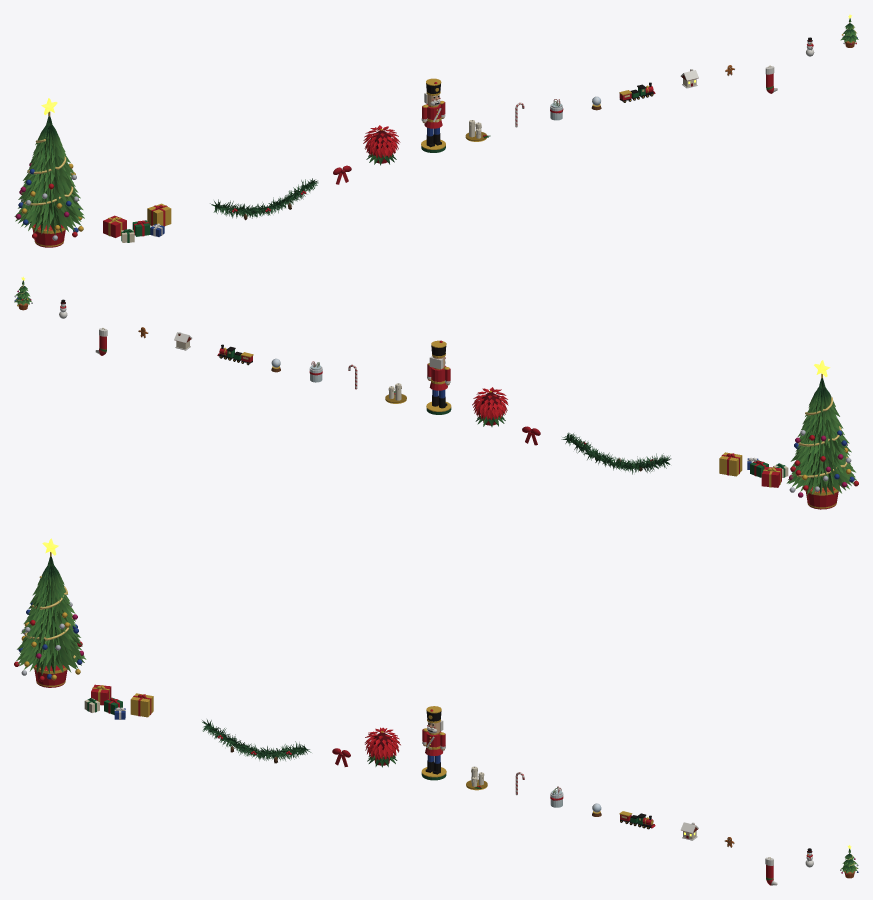
File: Christmas.glb
The picture shows the model from 3 angles, top to bottom: view 1: azimuth 30°, elevation 25°; view 2: azimuth 150°, elevation 25°; view 3: azimuth 330°, elevation 25°; orthographic projection.
Visible parts, largest first — view 1: XmasTree, Presents, Nutcracker, GarlandSwag, Poinsettia; view 2: XmasTree, Nutcracker, Presents, GarlandSwag, Poinsettia; view 3: XmasTree, Nutcracker, Presents, GarlandSwag, Poinsettia.
Boxes of the visible parts, bbox=[...] form: XmasTree: bbox=[14, 98, 84, 247]; Presents: bbox=[103, 203, 171, 242]; Nutcracker: bbox=[421, 78, 445, 152]; GarlandSwag: bbox=[210, 178, 318, 220]; Poinsettia: bbox=[363, 125, 400, 165]; XmasTree: bbox=[786, 360, 858, 509]; Nutcracker: bbox=[426, 340, 451, 414]; Presents: bbox=[719, 452, 788, 487]; GarlandSwag: bbox=[561, 432, 671, 474]; Poinsettia: bbox=[472, 387, 508, 426]; XmasTree: bbox=[14, 538, 86, 687]; Nutcracker: bbox=[421, 706, 446, 780]; Presents: bbox=[84, 684, 153, 719]; GarlandSwag: bbox=[202, 719, 311, 763]; Poinsettia: bbox=[365, 727, 400, 767].
Size of the model in its own units: 12.55 by 2.45 by 1.07.
